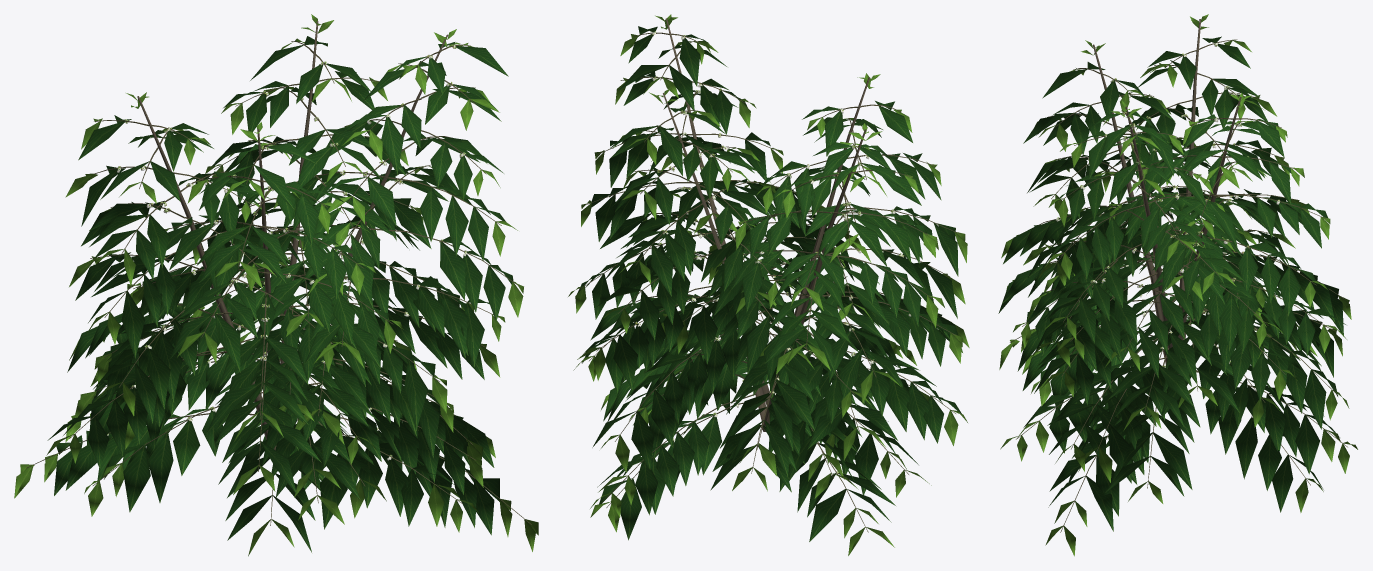
Rendered from coffea-robusta-mature-lod1.glb.
3 renders of one model, left to right at view 1: azimuth 30°, elevation 25°; view 2: azimuth 150°, elevation 25°; view 3: azimuth 270°, elevation 25°, orthographic. The views are drawn at different scales.
Parts seen in each view (by area): view 1: coffee_leaves, coffee_bark, coffee_flowers, coffee_cherries_green; view 2: coffee_leaves, coffee_bark, coffee_flowers, coffee_cherries_green; view 3: coffee_leaves, coffee_bark, coffee_flowers, coffee_cherries_green.
Boxes of the visible parts, x1=… form: coffee_leaves: x1=14, y1=14, x2=538, y2=556; coffee_bark: x1=26, y1=21, x2=531, y2=525; coffee_flowers: x1=107, y1=44, x2=467, y2=460; coffee_cherries_green: x1=107, y1=44, x2=466, y2=458; coffee_leaves: x1=568, y1=14, x2=969, y2=555; coffee_bark: x1=579, y1=18, x2=960, y2=532; coffee_flowers: x1=635, y1=32, x2=910, y2=473; coffee_cherries_green: x1=635, y1=31, x2=910, y2=473; coffee_leaves: x1=998, y1=14, x2=1357, y2=556; coffee_bark: x1=1010, y1=19, x2=1347, y2=532; coffee_flowers: x1=1055, y1=43, x2=1280, y2=417; coffee_cherries_green: x1=1056, y1=43, x2=1279, y2=414.
Size of the model in its own units: 2.83 by 3.17 by 2.43.
4 materials, 2 textured.
